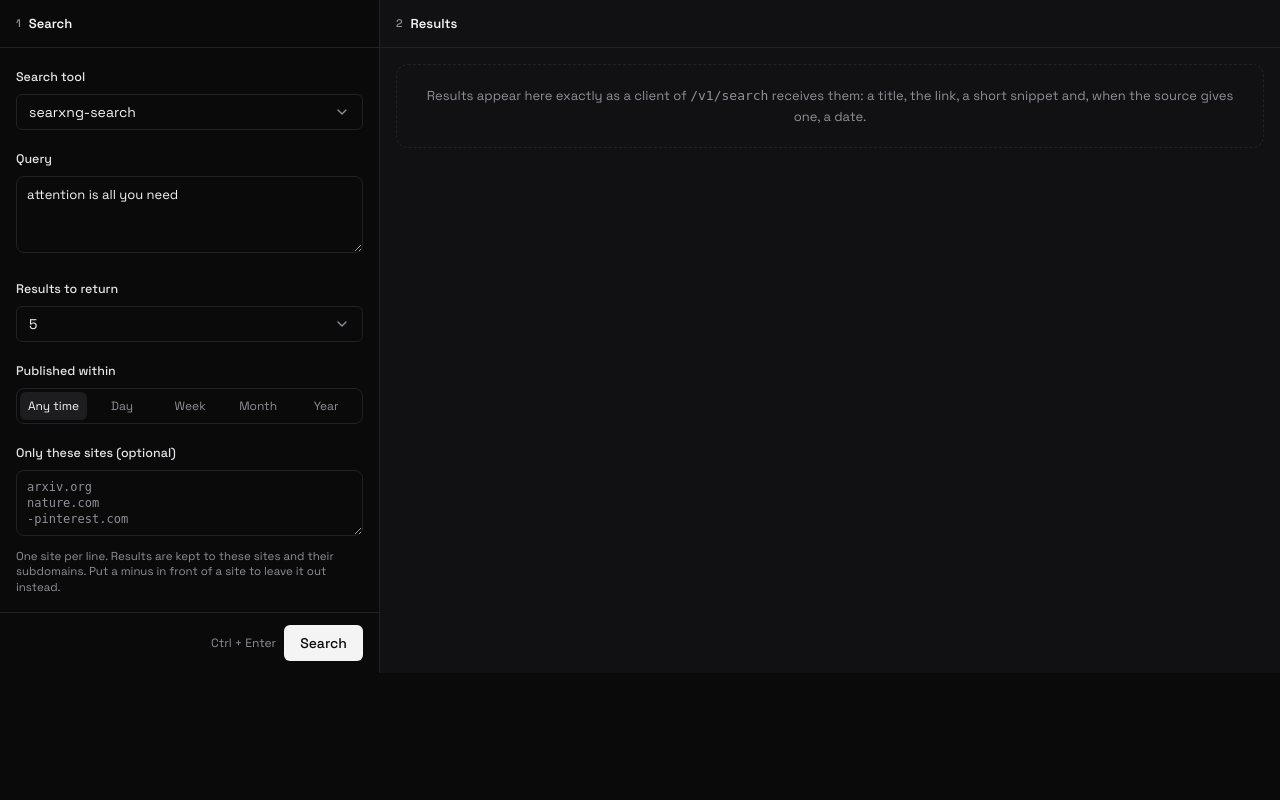
Test: SearchWorkspace › shows the gateway's error
This screenshot has width=1280, height=800.
Click the button with aria-label "Run search": (324, 643) [284,625,363,661]
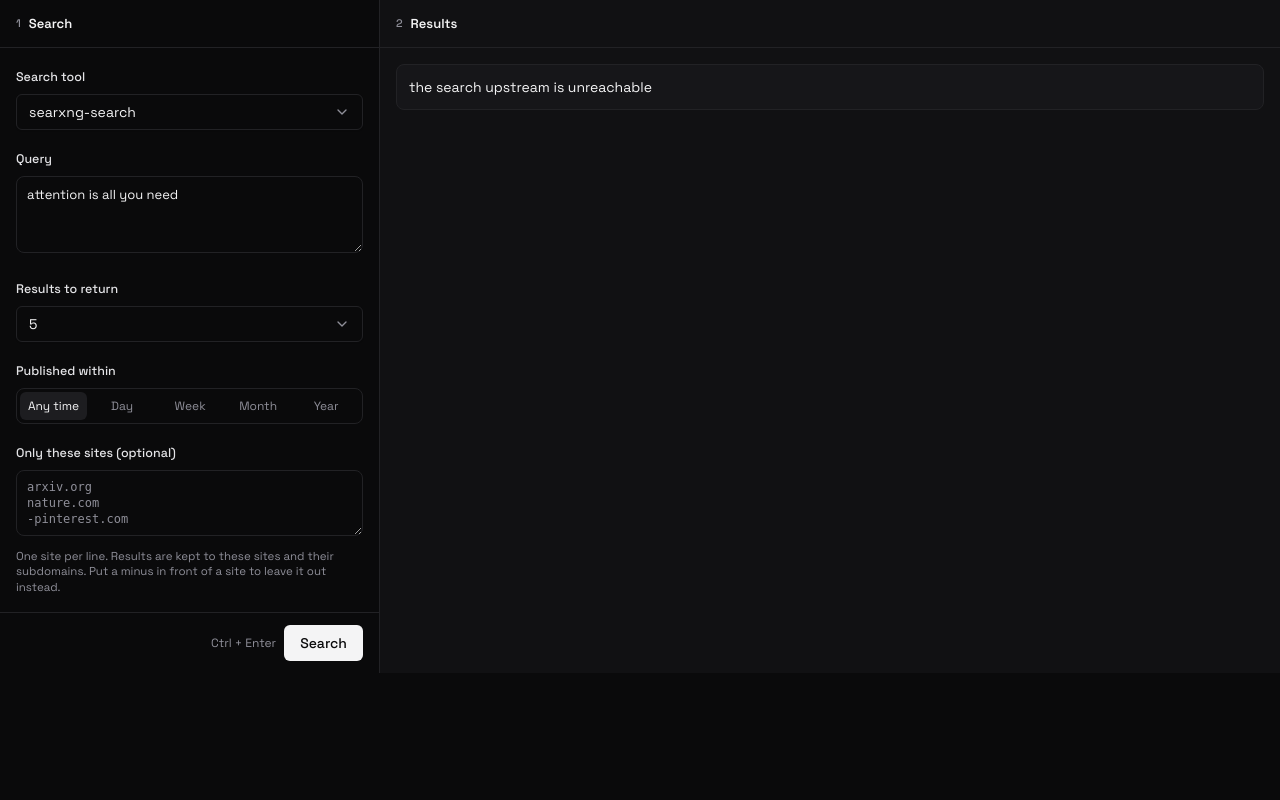
Expected: the message "the search upstream is unreachable" is shown, [396,64,1264,110]
